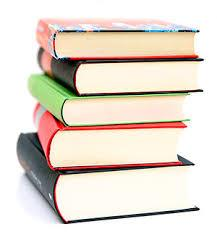Paper: (14, 4, 208, 232)
